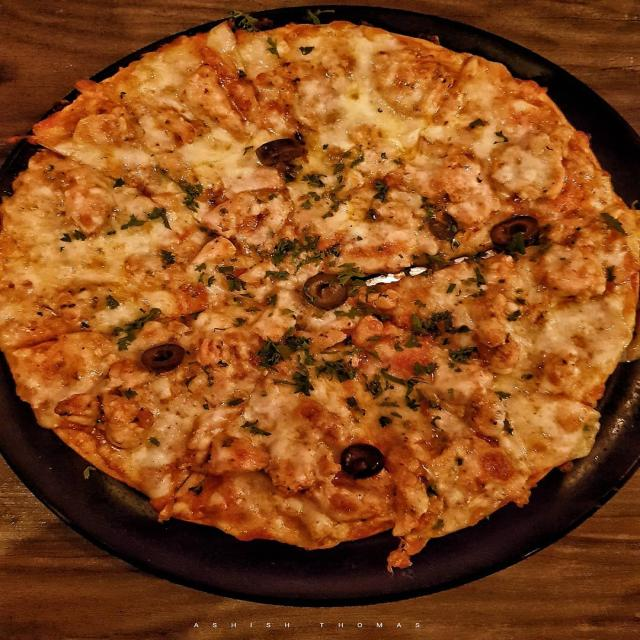black_olives: (488, 214, 541, 248), (303, 271, 348, 310), (340, 441, 385, 479), (255, 138, 307, 168), (142, 343, 186, 372)
pizza: (0, 16, 638, 556)
